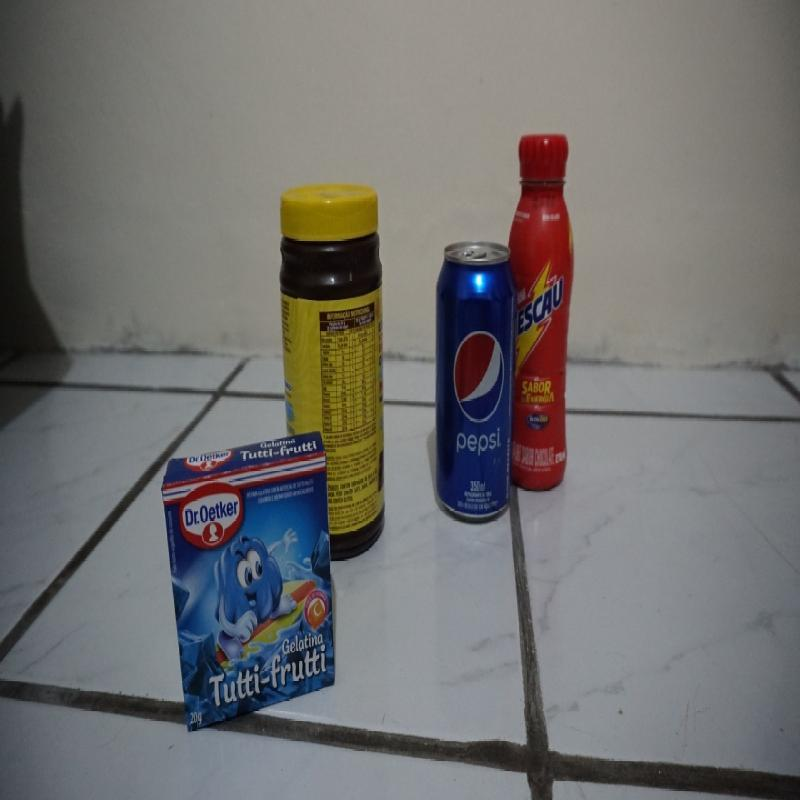Chocolate Milk: (513, 133, 568, 488)
Chocolate Powder: (275, 177, 388, 419)
Gelatine: (162, 429, 338, 722)
Soda can: (431, 240, 514, 521)
